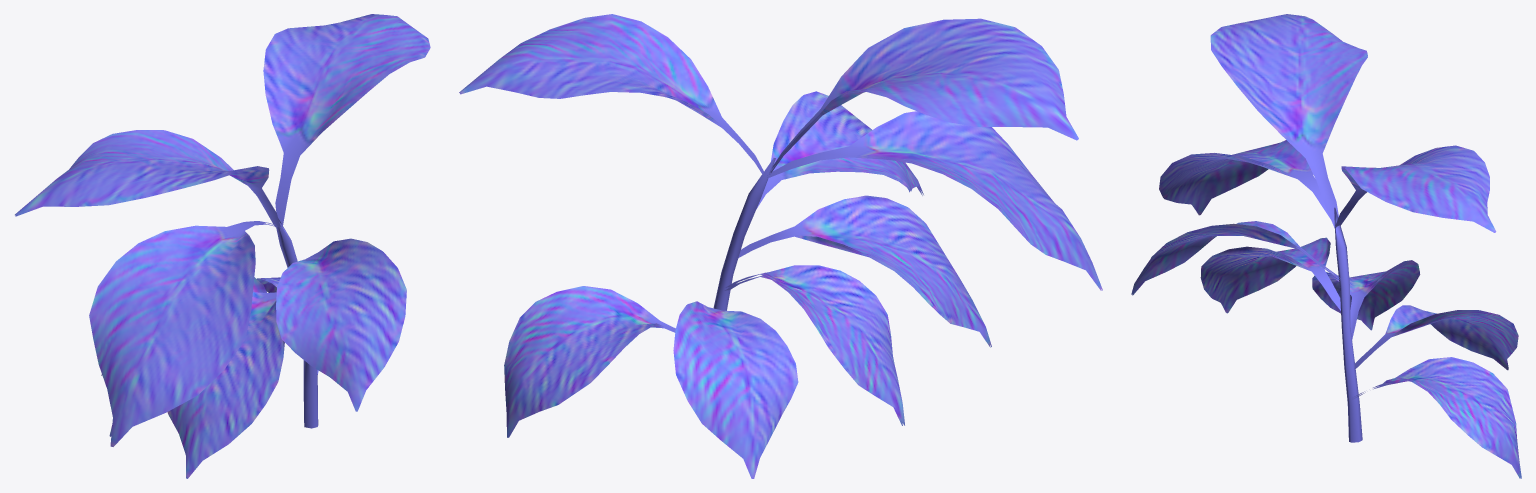
File: Plants2.fbx
3 views of the same model, side by side, from view 1: azimuth 30°, elevation 25°; view 2: azimuth 150°, elevation 25°; view 3: azimuth 270°, elevation 25° (orthographic). The views are drawn at different scales.
Visible parts, largest first — view 1: Plants2; view 2: Plants2; view 3: Plants2.
Boxes of the visible parts, x1,y1,x2,y2 form: Plants2: (15, 14, 430, 478); Plants2: (459, 14, 1102, 478); Plants2: (1131, 14, 1521, 478).
Size of the model in its own units: 42.38 by 29.05 by 32.77.
1 material, 1 textured.
